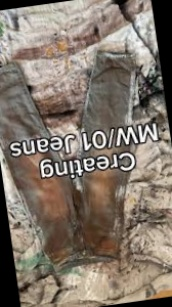earth: (82, 173, 122, 237), (40, 177, 72, 247)
